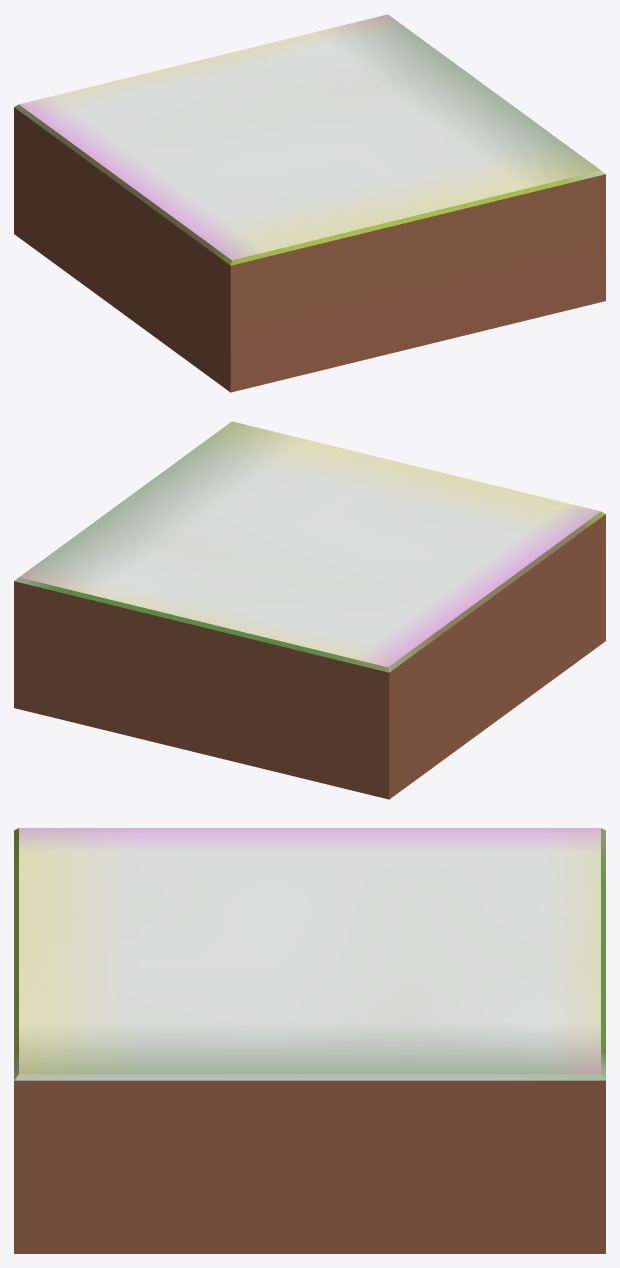
The model's file is Plain.Textured.Grid.Snow.glb.
The picture shows the model from 3 angles, top to bottom: view 1: azimuth 30°, elevation 25°; view 2: azimuth 150°, elevation 25°; view 3: azimuth 270°, elevation 25°; orthographic projection. The views are drawn at different scales.
Parts seen in each view (by area): view 1: Plain.Textured.Grid.Snow; view 2: Plain.Textured.Grid.Snow; view 3: Plain.Textured.Grid.Snow.
Part boxes in pixels (x1,y1,x2,y2): Plain.Textured.Grid.Snow: (14, 14, 605, 392); Plain.Textured.Grid.Snow: (14, 421, 605, 799); Plain.Textured.Grid.Snow: (14, 828, 605, 1253).
Bounding box in the file's own units: 3 × 0.9943 × 3.
Materials: 1 (1 with a texture image).
